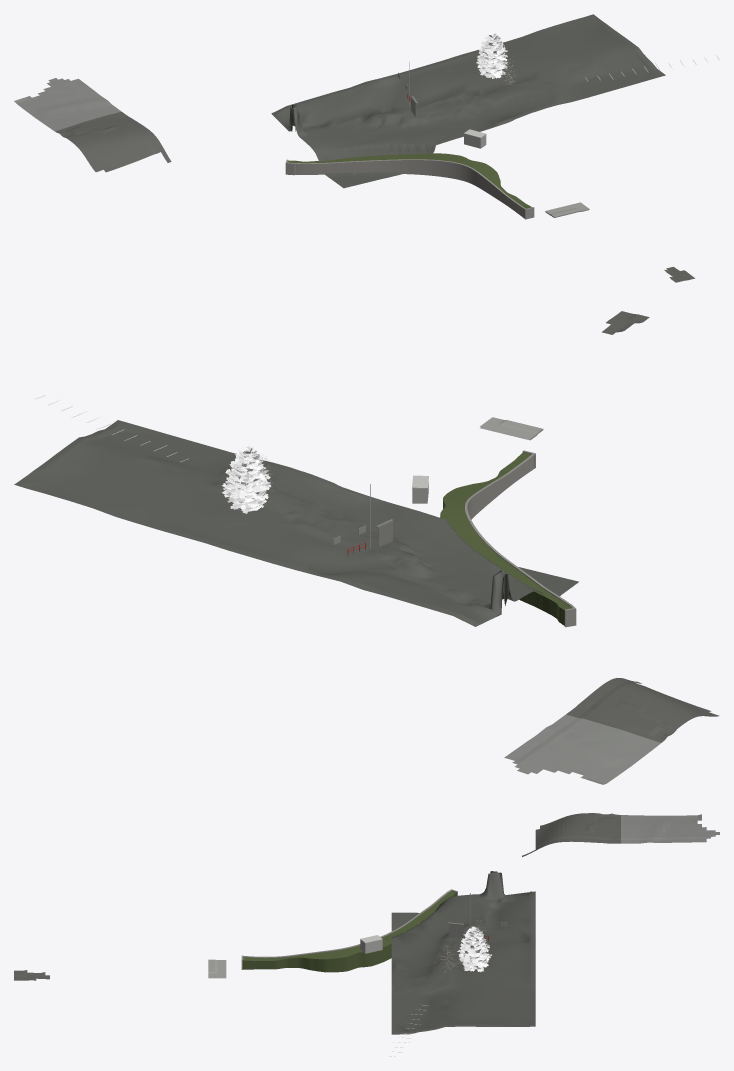
3 renders of one model, top to bottom at view 1: azimuth 30°, elevation 25°; view 2: azimuth 150°, elevation 25°; view 3: azimuth 270°, elevation 25°, orthographic. The views are drawn at different scales.
Parts seen in each view (by area): view 1: by2_stitch_cover_mh, bz_terrain_1m_ext_rhd_south, gq_SF_NE_retaining_wall, gq_SF_NE_wall_bankfill, Tree_WhitePine_LOD1_Oct; view 2: by2_stitch_cover_mh, bz_terrain_1m_ext_rhd_south, gq_SF_NE_wall_bankfill, Tree_WhitePine_LOD1_Oct, gq_SF_NE_retaining_wall, gs_SF_panzer_north_apron; view 3: by2_stitch_cover_mh, bz_terrain_1m_ext_rhd_south, gq_SF_NE_wall_bankfill, Tree_WhitePine_LOD1_Oct, gq_SF_NE_retaining_wall.
Boxes of the visible parts, x1,y1,x2,y2 form: by2_stitch_cover_mh: [271, 14, 665, 188]; bz_terrain_1m_ext_rhd_south: [14, 78, 695, 282]; gq_SF_NE_retaining_wall: [285, 159, 534, 219]; gq_SF_NE_wall_bankfill: [288, 153, 531, 208]; Tree_WhitePine_LOD1_Oct: [476, 33, 516, 84]; by2_stitch_cover_mh: [14, 420, 578, 626]; bz_terrain_1m_ext_rhd_south: [504, 311, 719, 784]; gq_SF_NE_wall_bankfill: [440, 452, 571, 625]; Tree_WhitePine_LOD1_Oct: [221, 446, 273, 513]; gq_SF_NE_retaining_wall: [465, 450, 576, 627]; gs_SF_panzer_north_apron: [480, 417, 543, 440]; by2_stitch_cover_mh: [391, 871, 535, 1034]; bz_terrain_1m_ext_rhd_south: [14, 813, 719, 980]; gq_SF_NE_wall_bankfill: [243, 891, 456, 972]; Tree_WhitePine_LOD1_Oct: [439, 926, 491, 972]; gq_SF_NE_retaining_wall: [241, 889, 457, 969].
Size of the model in its own units: 140 by 19.27 by 157.
